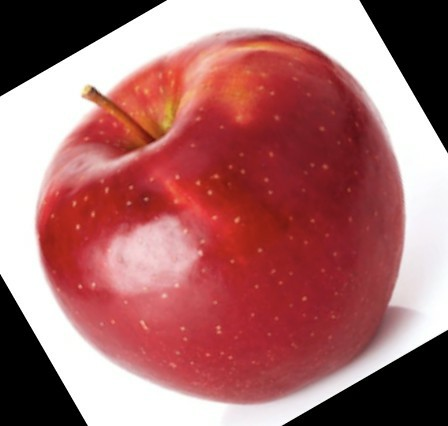fresh_apple: (37, 30, 407, 402)
